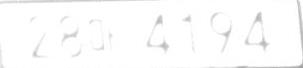1: (179, 13, 201, 53)
2: (29, 13, 51, 58)
4: (244, 11, 269, 52), (145, 14, 169, 53)
8: (58, 14, 82, 58)
9: (210, 10, 233, 54)
마: (87, 19, 114, 51)
